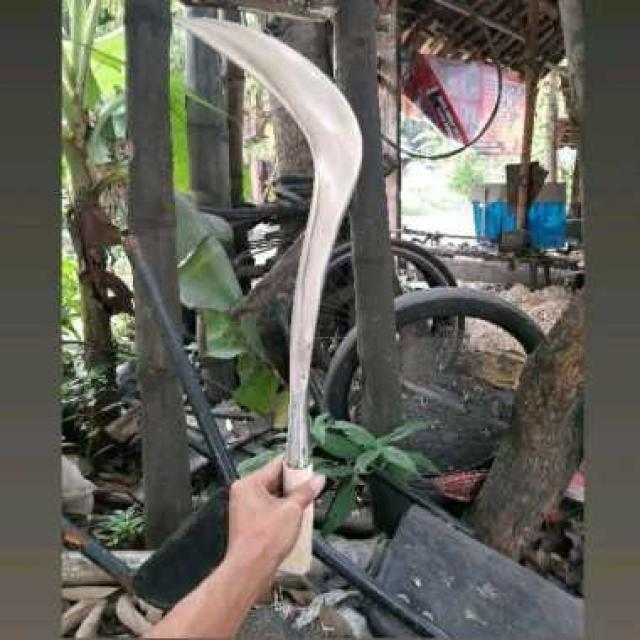Celurit: (179, 12, 369, 578)
